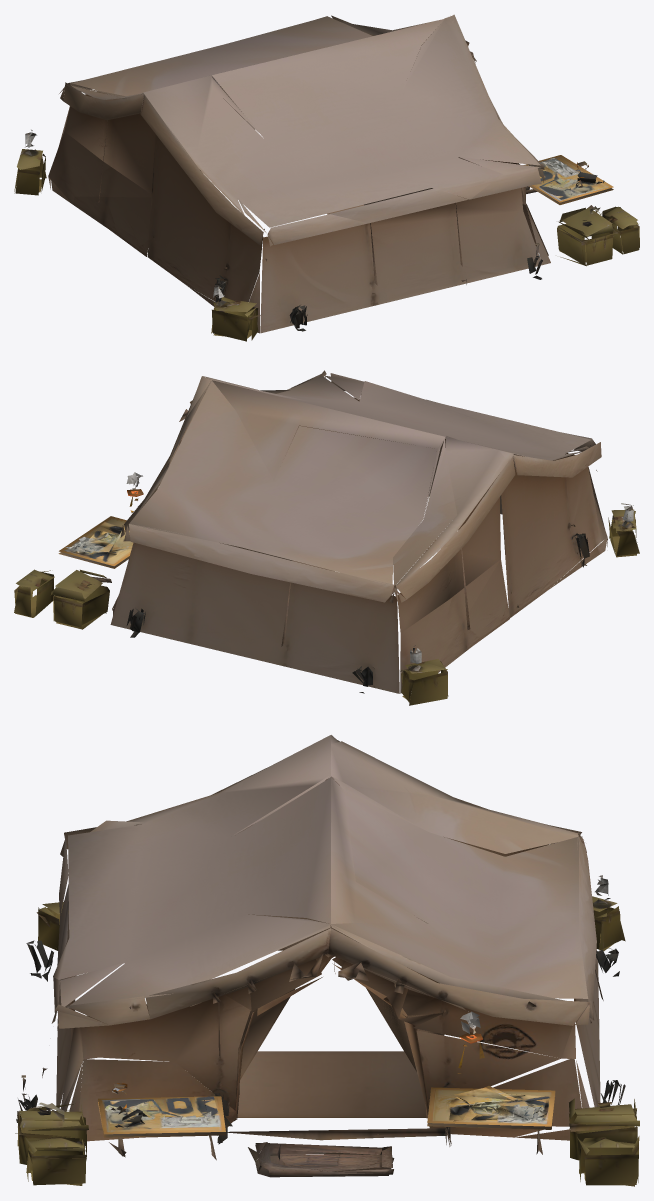
Rendered from ch1_expedition_command_tent_LOD3.glb.
3 renders of one model, top to bottom at view 1: azimuth 30°, elevation 25°; view 2: azimuth 150°, elevation 25°; view 3: azimuth 270°, elevation 25°, orthographic. The views are drawn at different scales.
Visible parts, largest first — view 1: tripo_node_c0922387-0ff8-4f86-8ded-e790a2d85951; view 2: tripo_node_c0922387-0ff8-4f86-8ded-e790a2d85951; view 3: tripo_node_c0922387-0ff8-4f86-8ded-e790a2d85951.
Part boxes in pixels (x1=…): tripo_node_c0922387-0ff8-4f86-8ded-e790a2d85951: x1=14, y1=14, x2=639, y2=341; tripo_node_c0922387-0ff8-4f86-8ded-e790a2d85951: x1=14, y1=370, x2=639, y2=705; tripo_node_c0922387-0ff8-4f86-8ded-e790a2d85951: x1=15, y1=735, x2=639, y2=1186.
Bounding box in the file's own units: 0.9866 × 0.3895 × 1.
1 material, 1 textured.
